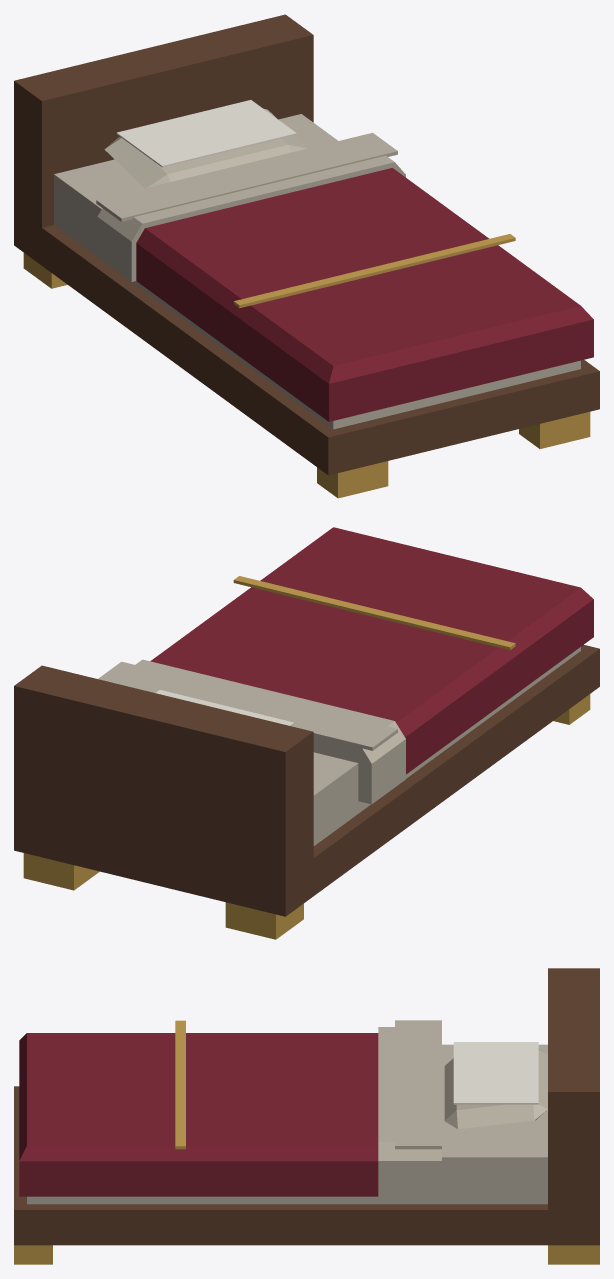
Rendered from bedSingle.glb.
3 views of the same model, one above another, from view 1: azimuth 30°, elevation 25°; view 2: azimuth 150°, elevation 25°; view 3: azimuth 270°, elevation 25° (orthographic). The views are drawn at different scales.
Parts seen in each view (by area): view 1: cover, bedSingle(Clone), pillow; view 2: bedSingle(Clone), cover, pillow; view 3: cover, bedSingle(Clone), pillow.
Part boxes in pixels (<box>): cover: <box>96,132,593,421</box>; bedSingle(Clone): <box>14,14,599,498</box>; pillow: <box>104,100,307,187</box>; bedSingle(Clone): <box>14,645,599,939</box>; cover: <box>98,527,593,804</box>; pillow: <box>155,690,294,726</box>; cover: <box>19,1020,441,1198</box>; bedSingle(Clone): <box>14,968,599,1264</box>; pillow: <box>444,1042,547,1129</box>.
Bounding box in the file's own units: 0.571 × 0.375 × 1.12.
